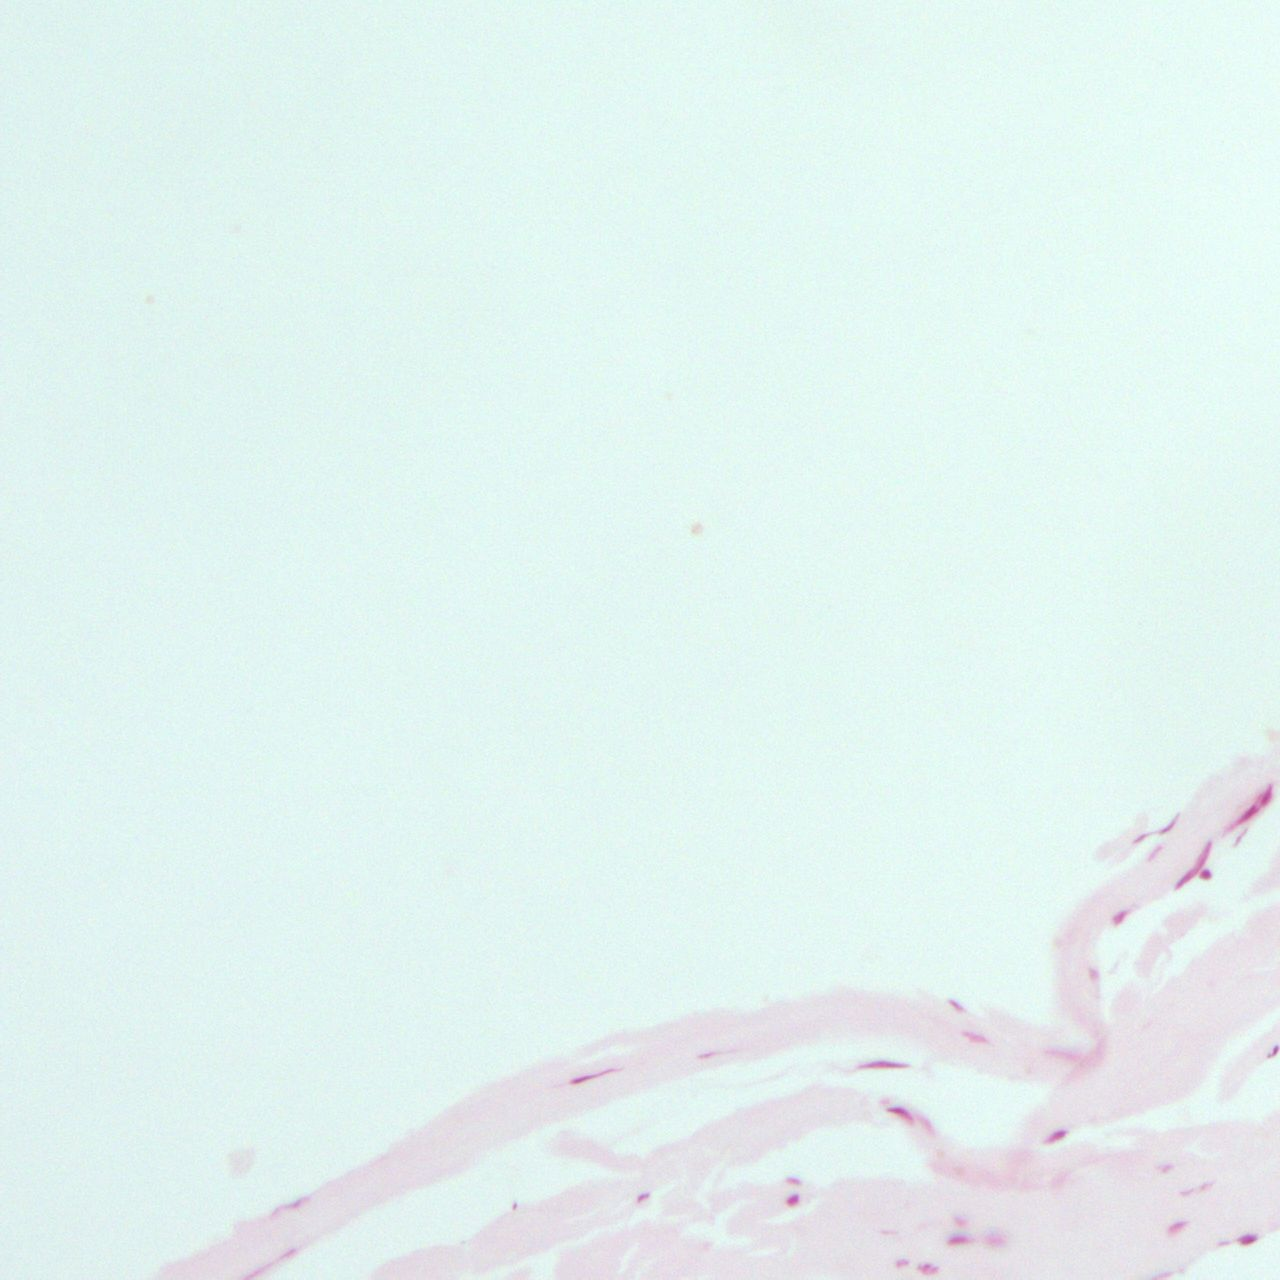nucleus-AC: (1170, 839, 1219, 893), (241, 1240, 302, 1280), (566, 1065, 619, 1087), (268, 1192, 311, 1218), (1225, 803, 1260, 833), (885, 1099, 915, 1128), (1180, 1176, 1216, 1199), (1157, 811, 1183, 837), (855, 1058, 908, 1069), (1109, 905, 1133, 927), (1257, 781, 1276, 806), (1042, 1126, 1069, 1145), (945, 996, 968, 1016), (1230, 825, 1250, 849), (1146, 843, 1164, 862), (1130, 831, 1150, 847), (1152, 1269, 1184, 1279), (962, 1032, 987, 1043), (946, 1235, 971, 1245), (1167, 1223, 1184, 1235), (988, 1232, 1005, 1245), (917, 1262, 937, 1273), (1237, 1235, 1257, 1245), (634, 1193, 649, 1205), (954, 1218, 971, 1228), (787, 1193, 799, 1206), (1088, 968, 1099, 981), (1157, 1164, 1175, 1172), (1199, 869, 1212, 879), (783, 1175, 799, 1183), (896, 1259, 906, 1268), (511, 1203, 516, 1212)
